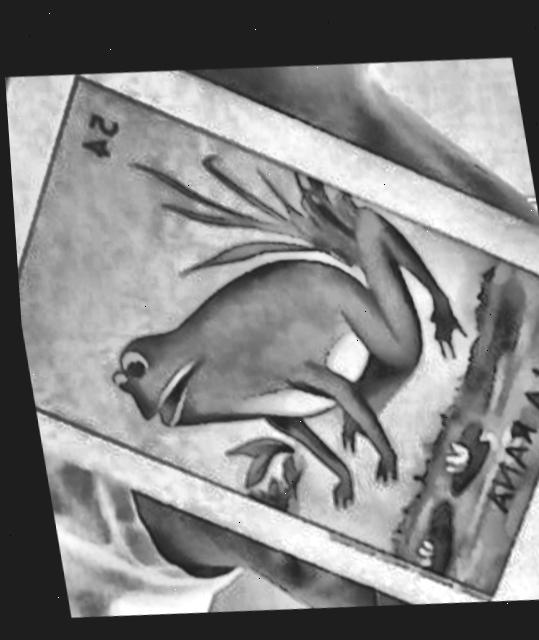La Rana: (14, 75, 539, 590)
